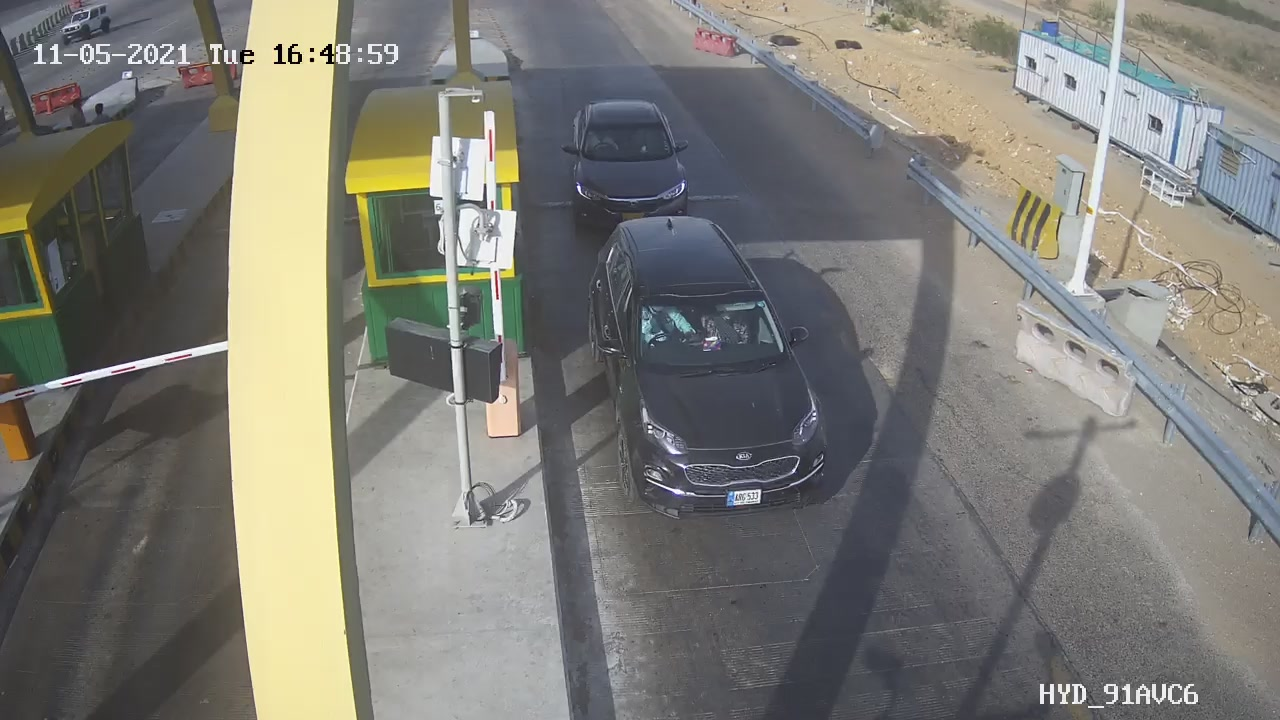F1: (548, 88, 726, 239)
